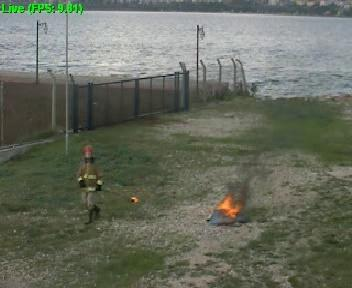fire: (222, 195, 243, 219)
smoke: (239, 104, 318, 186)
